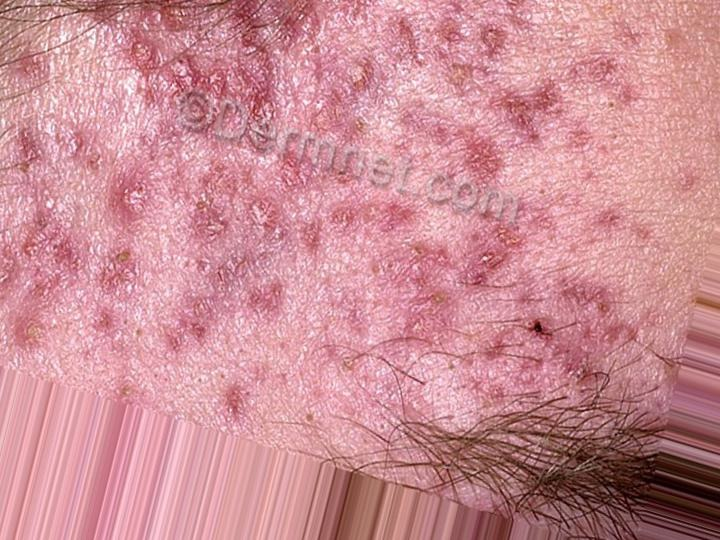Acne: (8, 8, 686, 417)
